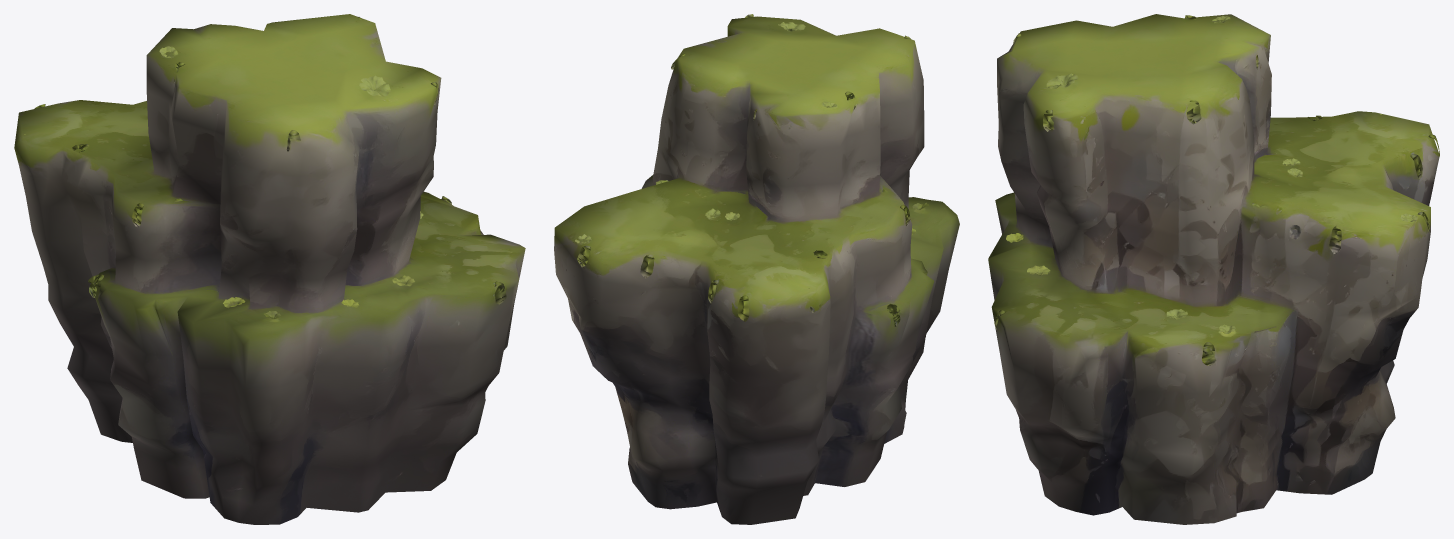
The picture shows the model from 3 angles, left to right: view 1: azimuth 30°, elevation 25°; view 2: azimuth 150°, elevation 25°; view 3: azimuth 270°, elevation 25°; orthographic projection. The views are drawn at different scales.
Visible parts, largest first — view 1: tripo_node_ba402618-abd6-48a8-bb46-2e59572608c5; view 2: tripo_node_ba402618-abd6-48a8-bb46-2e59572608c5; view 3: tripo_node_ba402618-abd6-48a8-bb46-2e59572608c5.
Part boxes in pixels (left/top/right/bottom): tripo_node_ba402618-abd6-48a8-bb46-2e59572608c5: left=14, top=14, right=525, bottom=524; tripo_node_ba402618-abd6-48a8-bb46-2e59572608c5: left=554, top=14, right=959, bottom=524; tripo_node_ba402618-abd6-48a8-bb46-2e59572608c5: left=988, top=14, right=1439, bottom=524.
Size of the model in its own units: 0.877 by 0.9824 by 0.998.
Materials: 1 (1 with a texture image).
